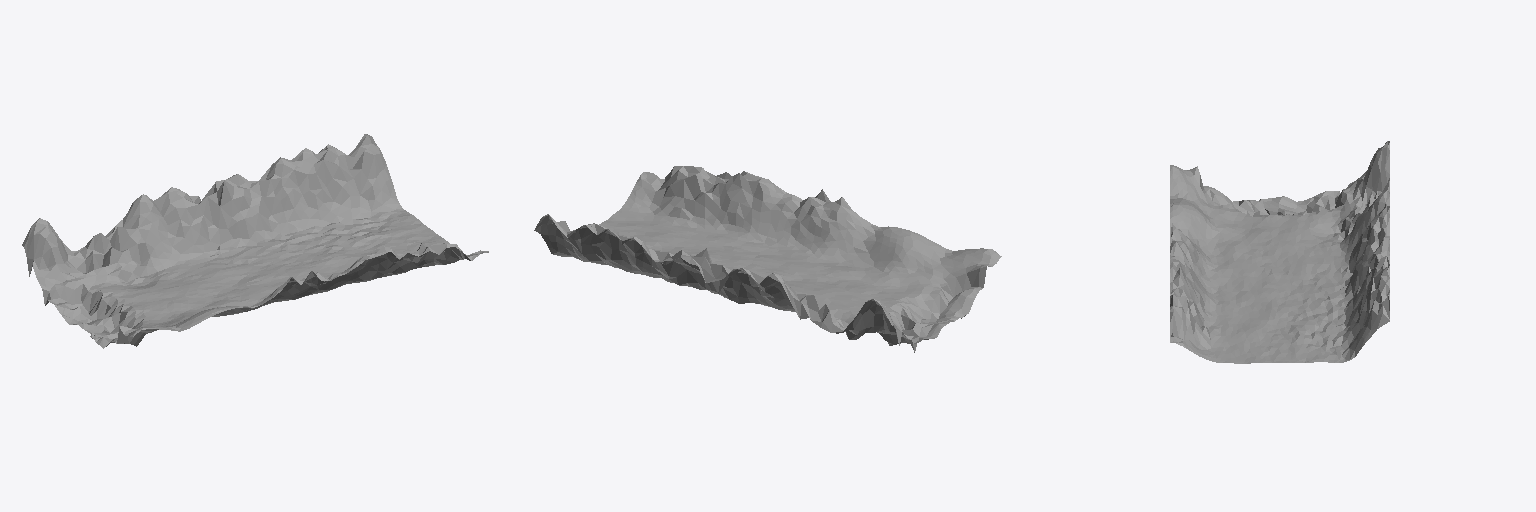
File: landscape.obj
3 views of the same model, side by side, from view 1: azimuth 30°, elevation 25°; view 2: azimuth 150°, elevation 25°; view 3: azimuth 270°, elevation 25° (orthographic).
Visible parts, largest first — view 1: ground_Plane.003; view 2: ground_Plane.003; view 3: ground_Plane.003.
Boxes of the visible parts, x1=… form: ground_Plane.003: x1=22, y1=134, x2=488, y2=348; ground_Plane.003: x1=534, y1=166, x2=1001, y2=352; ground_Plane.003: x1=1170, y1=141, x2=1389, y2=363.
Bounding box in the file's own units: 1046 × 235 × 559.